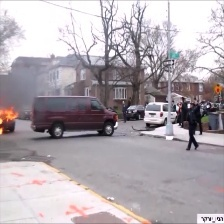fire: (0, 104, 18, 135), (212, 83, 221, 92)
